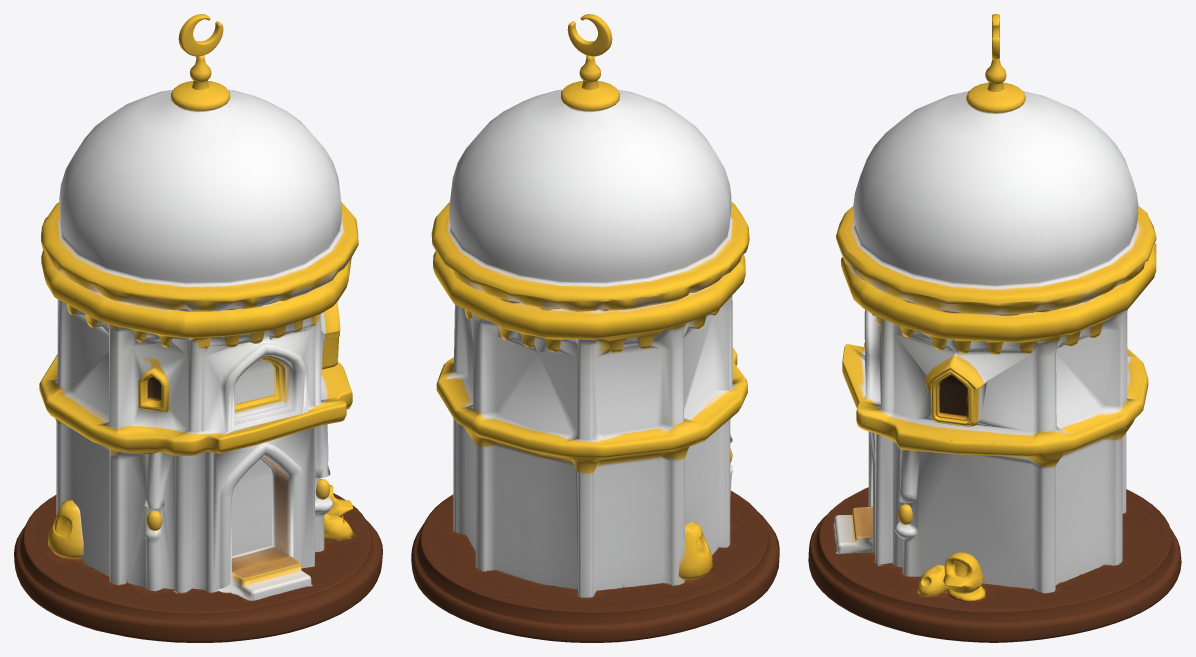
Rendered from brunei-envi-3.glb.
The picture shows the model from 3 angles, left to right: view 1: azimuth 30°, elevation 25°; view 2: azimuth 150°, elevation 25°; view 3: azimuth 270°, elevation 25°; orthographic projection.
Visible parts, largest first — view 1: e206d99b_b303_4cf0_9026_45df35ebaf24; view 2: e206d99b_b303_4cf0_9026_45df35ebaf24; view 3: e206d99b_b303_4cf0_9026_45df35ebaf24.
Part boxes in pixels (x1=…): e206d99b_b303_4cf0_9026_45df35ebaf24: x1=14, y1=14, x2=382, y2=642; e206d99b_b303_4cf0_9026_45df35ebaf24: x1=411, y1=14, x2=779, y2=642; e206d99b_b303_4cf0_9026_45df35ebaf24: x1=808, y1=14, x2=1181, y2=642.
Bounding box in the file's own units: 0.6089 × 0.9995 × 0.6138.
Materials: 1 (1 with a texture image).
